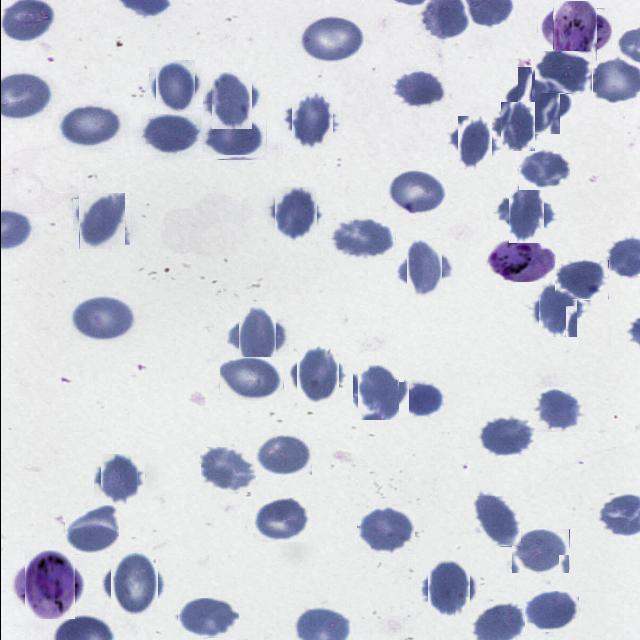difficult: (18, 555, 78, 615)
red blood cell: (297, 14, 366, 64), (510, 73, 566, 129), (105, 556, 161, 612), (69, 294, 137, 340), (57, 104, 124, 148), (219, 357, 283, 401), (386, 170, 447, 216), (356, 506, 414, 554), (202, 117, 266, 160), (75, 195, 126, 248), (331, 218, 395, 260), (64, 505, 118, 554), (199, 447, 256, 493), (252, 496, 309, 542), (511, 529, 569, 574), (354, 368, 406, 418), (140, 113, 201, 155), (231, 312, 282, 362), (422, 564, 472, 614), (286, 96, 336, 146), (292, 350, 342, 400), (472, 496, 521, 547), (534, 51, 592, 94), (177, 598, 239, 638), (207, 76, 256, 126), (270, 190, 320, 238), (254, 434, 311, 475), (400, 244, 448, 292), (502, 188, 550, 236), (533, 284, 581, 332), (478, 416, 535, 456), (524, 591, 578, 632), (535, 387, 584, 432), (554, 260, 608, 300), (518, 148, 569, 190), (152, 64, 198, 110), (96, 456, 141, 502), (390, 71, 445, 108), (452, 120, 496, 166), (496, 106, 538, 148), (398, 382, 444, 418)
schizont: (487, 240, 552, 282)
trophozoite: (544, 0, 604, 60)
